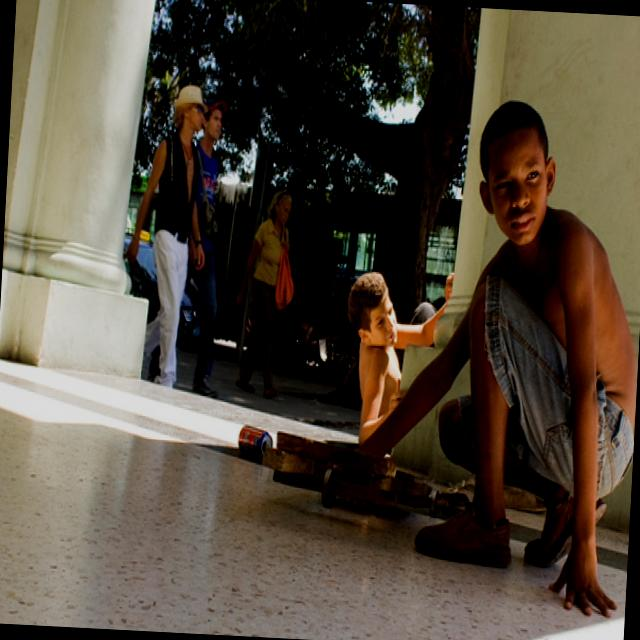Vehicle: (117, 232, 208, 354)
